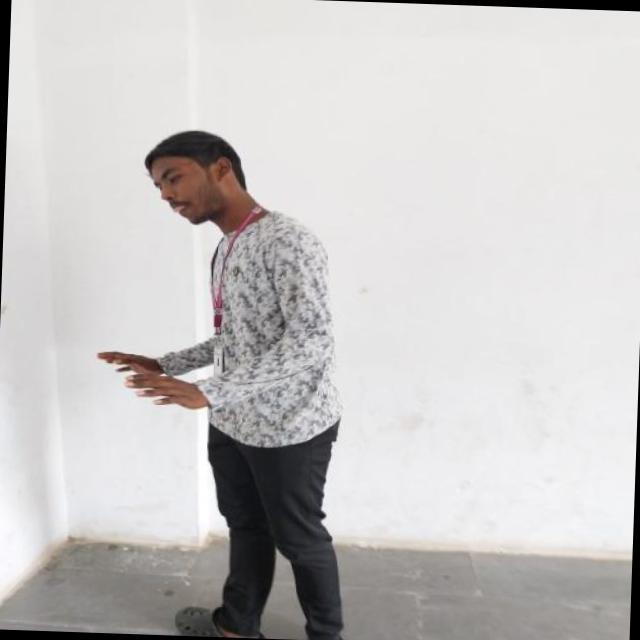id_card: (198, 203, 265, 380)
